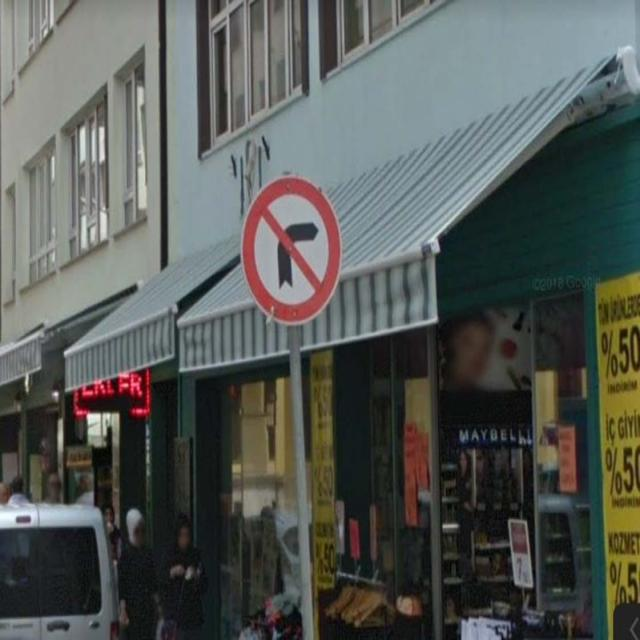sagadonulmez: (241, 176, 342, 325)
